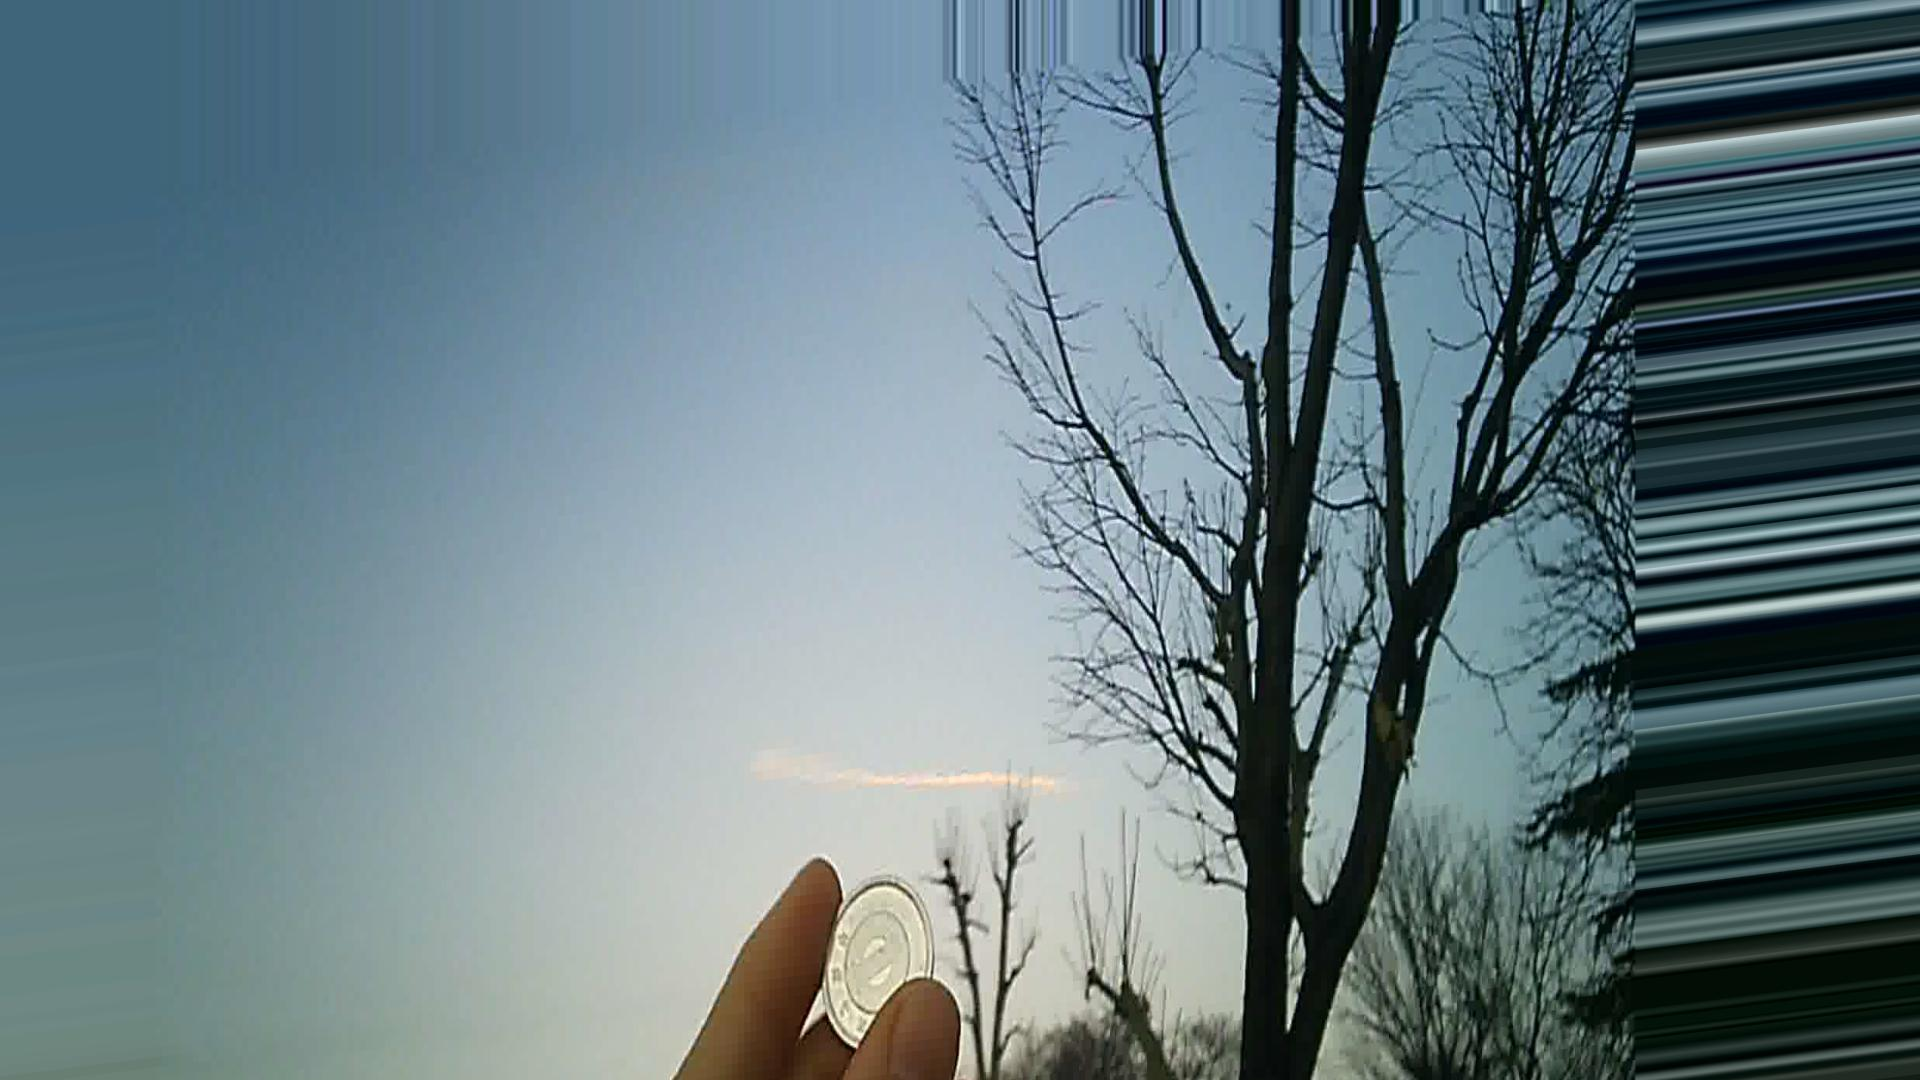1 Yen: (807, 868, 942, 1036)
